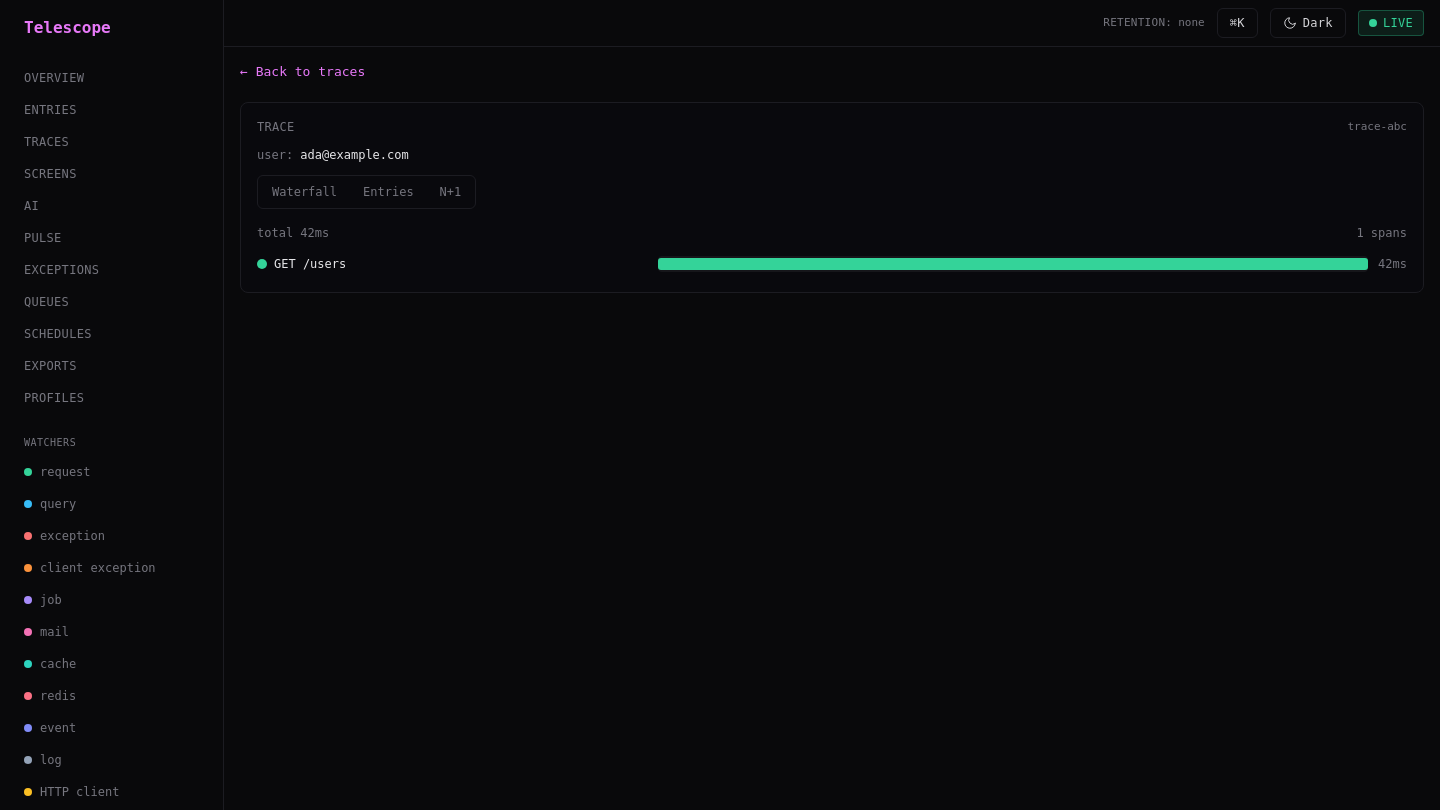
Test: App shell navigation › preserves the originating trace when an entry opened from a trace goes Back
The width and height of the screenshot is (1440, 810).
Check: the button "← Back to traces" is shown, box [240,63,365,86]
Click the button "GET /users 42ms" at point(832, 264), box [257,253,1407,276]
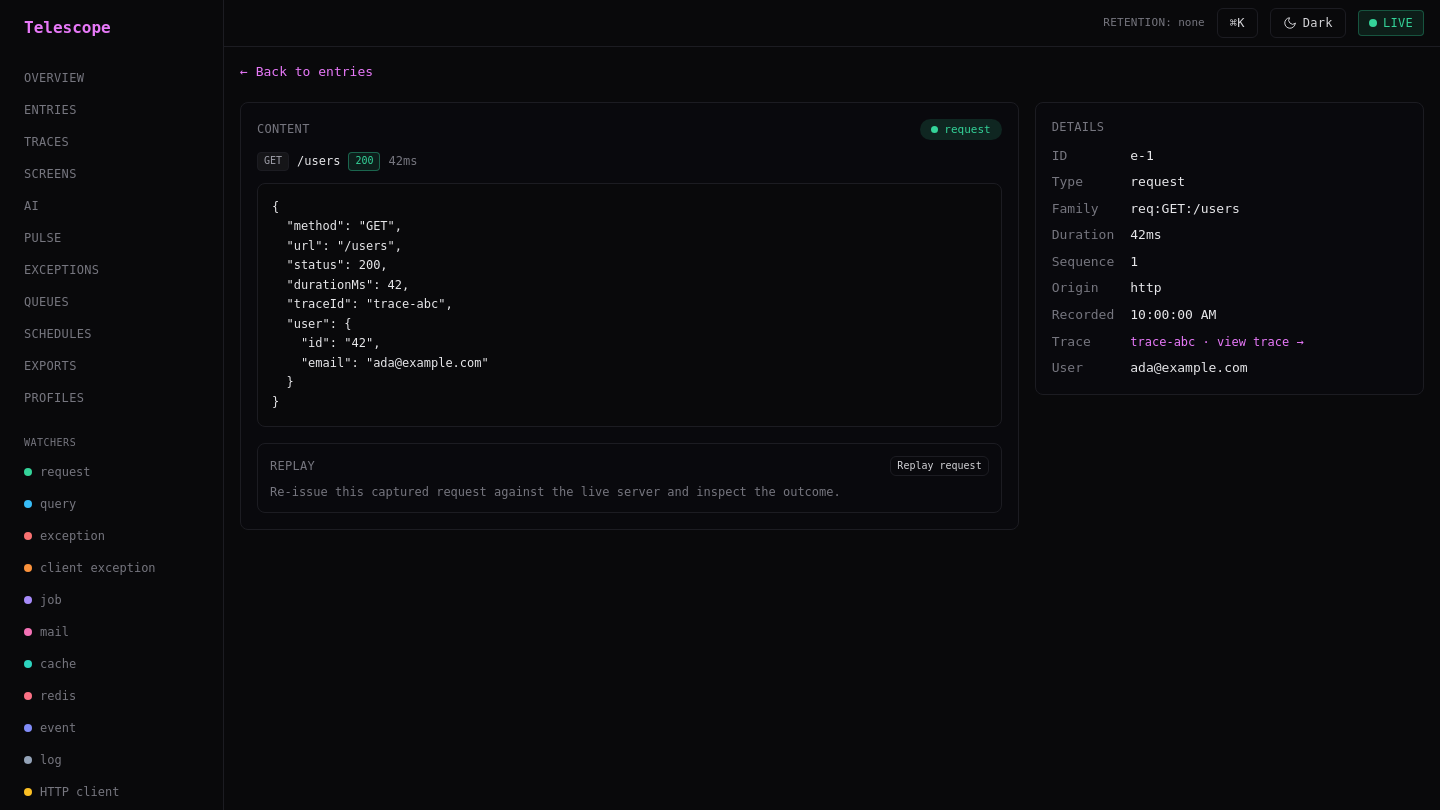
Check: the button "← Back to entries" is shown
Check: the heading "Content" is shown, box [257,121,310,137]
Click the button "← Back to entries" at point(307, 74), box [240,63,373,86]
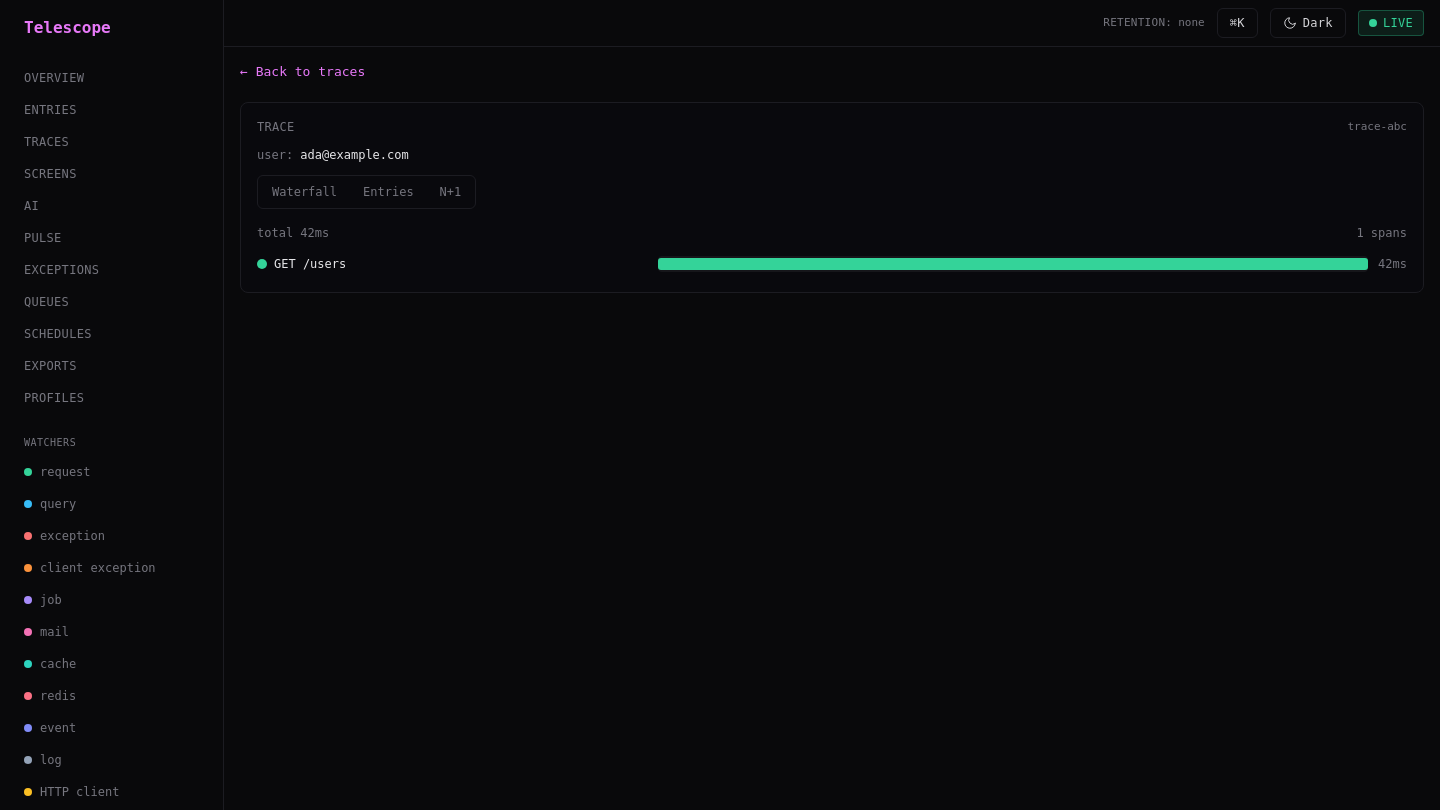
Check: the button "← Back to traces" is shown, box [240,63,365,86]
